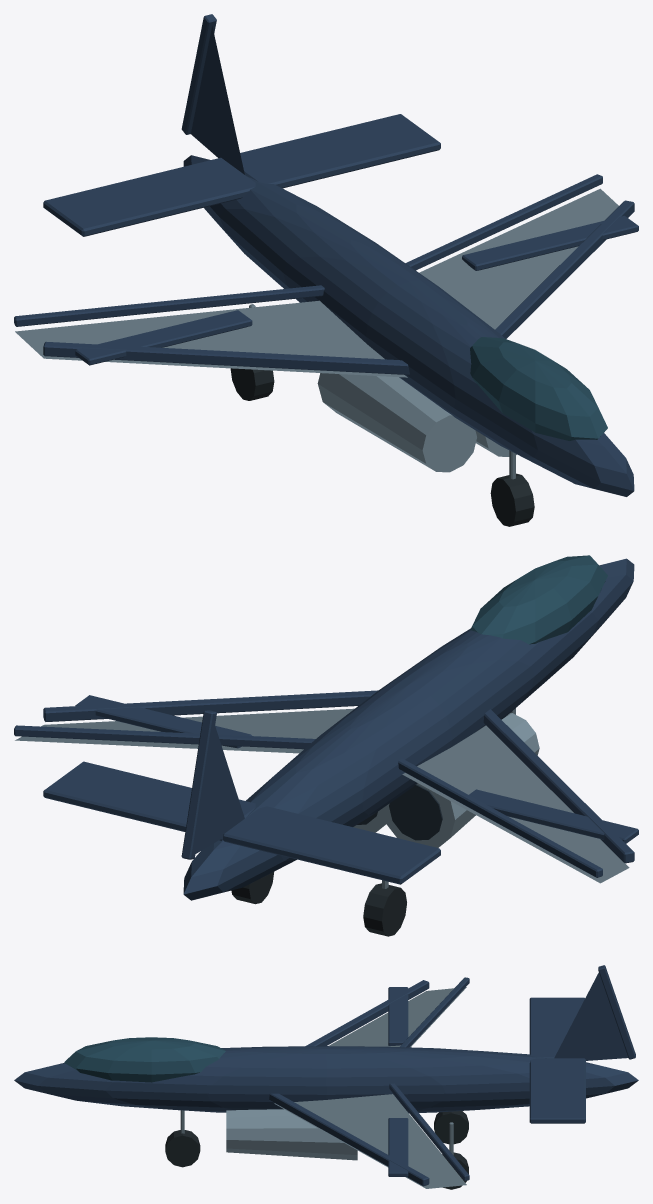
Rendered from aircraft-fighter-jet.lod0.glb.
3 views of the same model, one above another, from view 1: azimuth 30°, elevation 25°; view 2: azimuth 150°, elevation 25°; view 3: azimuth 270°, elevation 25° (orthographic). The views are drawn at different scales.
Parts seen in each view (by area): view 1: aircraft-fighter-jet__body, aircraft-fighter-jet__aileron_1, aircraft-fighter-jet__aileron_-1, aircraft-fighter-jet__gear_0, aircraft-fighter-jet__gear_-0p85; view 2: aircraft-fighter-jet__body, aircraft-fighter-jet__aileron_-1, aircraft-fighter-jet__aileron_1, aircraft-fighter-jet__gear_-0p85, aircraft-fighter-jet__gear_0p85; view 3: aircraft-fighter-jet__body, aircraft-fighter-jet__gear_0, aircraft-fighter-jet__aileron_1, aircraft-fighter-jet__aileron_-1, aircraft-fighter-jet__gear_-0p85, aircraft-fighter-jet__gear_0p85.
Boxes of the visible parts, box(x1,y1,x2,y2) form: aircraft-fighter-jet__body: box(14, 14, 634, 496); aircraft-fighter-jet__aileron_1: box(462, 215, 638, 270); aircraft-fighter-jet__aileron_-1: box(75, 310, 252, 365); aircraft-fighter-jet__gear_0: box(490, 450, 534, 526); aircraft-fighter-jet__gear_-0p85: box(230, 304, 274, 400); aircraft-fighter-jet__body: box(14, 555, 634, 900); aircraft-fighter-jet__aileron_-1: box(469, 789, 638, 843); aircraft-fighter-jet__aileron_1: box(75, 695, 251, 748); aircraft-fighter-jet__gear_-0p85: box(363, 880, 406, 936); aircraft-fighter-jet__gear_0p85: box(231, 872, 273, 904); aircraft-fighter-jet__body: box(14, 965, 638, 1188); aircraft-fighter-jet__gear_0: box(165, 1110, 200, 1167); aircraft-fighter-jet__aileron_1: box(388, 1118, 408, 1176); aircraft-fighter-jet__aileron_-1: box(388, 987, 408, 1045); aircraft-fighter-jet__gear_-0p85: box(434, 1111, 468, 1144); aircraft-fighter-jet__gear_0p85: box(442, 1122, 468, 1189).
Bounding box in the file's own units: 7.56 × 3.49 × 10.
